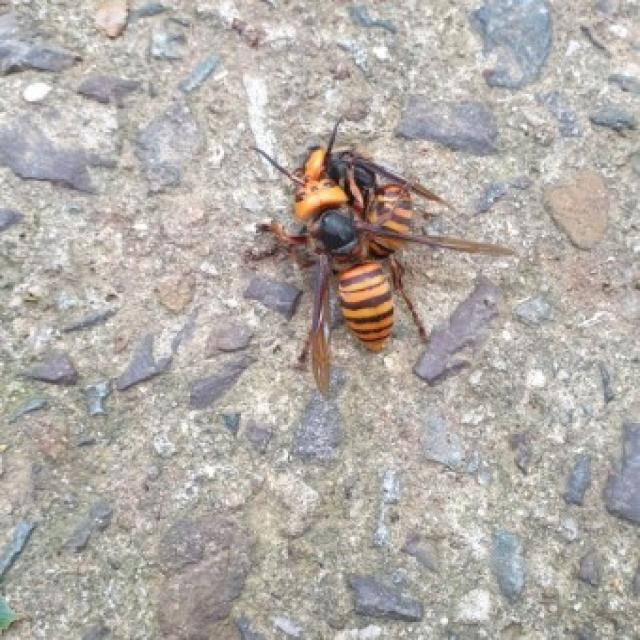Wasp: (272, 113, 502, 383)
